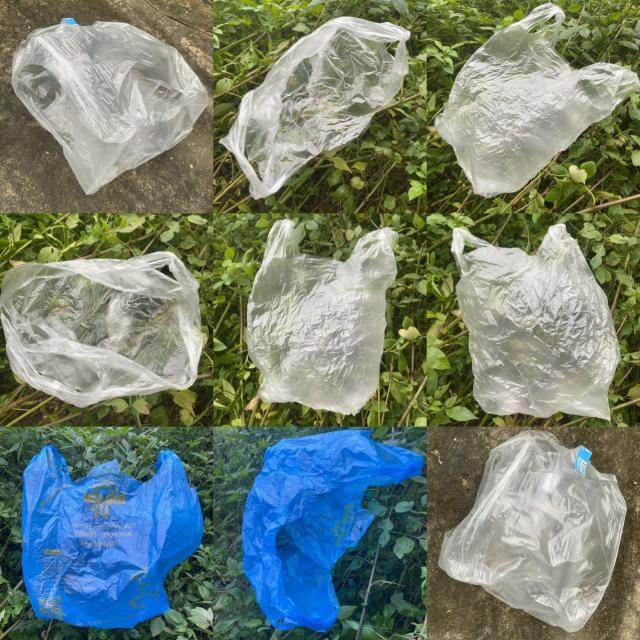Single-layer Plastic: (435, 4, 640, 198), (439, 431, 626, 631), (242, 430, 422, 631), (220, 16, 410, 199), (12, 19, 208, 193), (22, 445, 202, 629), (451, 224, 620, 419), (0, 251, 202, 407), (248, 220, 398, 415)
